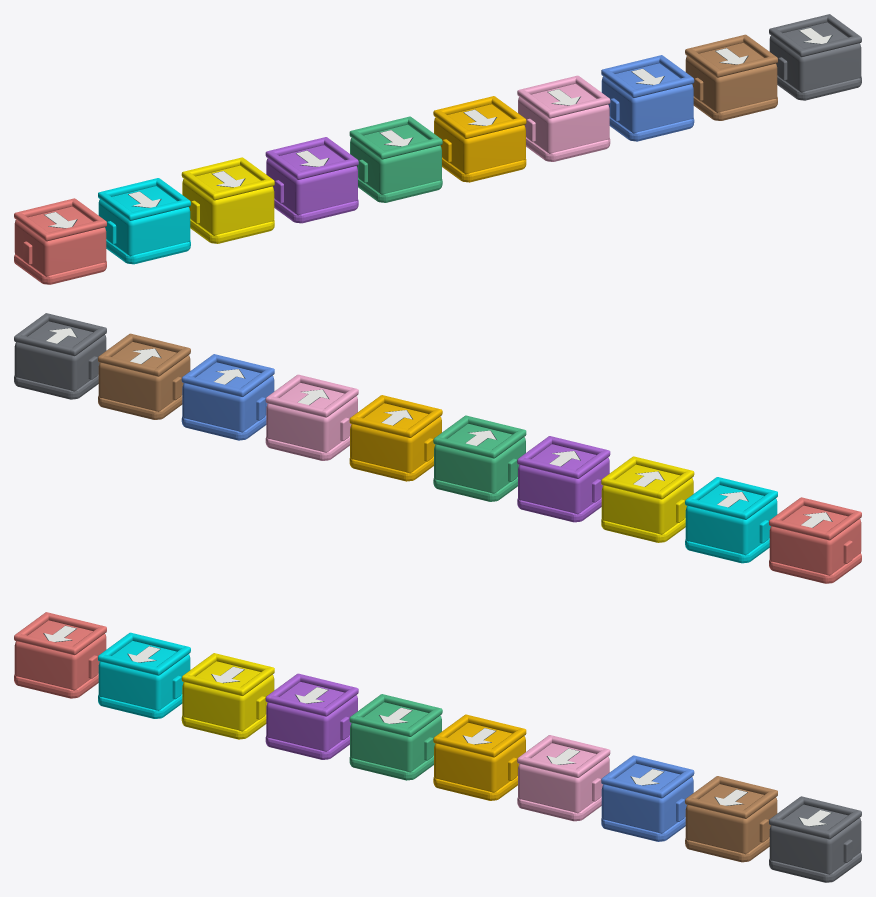
The model's file is ArrowVehicle_Small_10Colors.fbx.
3 views of the same model, one above another, from view 1: azimuth 30°, elevation 25°; view 2: azimuth 150°, elevation 25°; view 3: azimuth 330°, elevation 25° (orthographic).
Visible parts, largest first — view 1: Vehicle_Small_Red, Vehicle_Small_Blue, Vehicle_Small_Yellow, Vehicle_Small_Brown, Vehicle_Small_Cyan, Vehicle_Small_Charcoal, Vehicle_Small_Purple, Vehicle_Small_Green, Vehicle_Small_Pink, Vehicle_Small_Orange; view 2: Vehicle_Small_Red, Vehicle_Small_Blue, Vehicle_Small_Yellow, Vehicle_Small_Brown, Vehicle_Small_Charcoal, Vehicle_Small_Cyan, Vehicle_Small_Purple, Vehicle_Small_Green, Vehicle_Small_Pink, Vehicle_Small_Orange; view 3: Vehicle_Small_Charcoal, Vehicle_Small_Yellow, Vehicle_Small_Blue, Vehicle_Small_Cyan, Vehicle_Small_Brown, Vehicle_Small_Red, Vehicle_Small_Pink, Vehicle_Small_Orange, Vehicle_Small_Purple, Vehicle_Small_Green.
Boxes of the visible parts, bbox=[...] form: Vehicle_Small_Red: bbox=[14, 198, 106, 284]; Vehicle_Small_Blue: bbox=[601, 55, 694, 141]; Vehicle_Small_Yellow: bbox=[181, 157, 274, 243]; Vehicle_Small_Brown: bbox=[685, 34, 777, 120]; Vehicle_Small_Cyan: bbox=[98, 178, 190, 264]; Vehicle_Small_Charcoal: bbox=[769, 14, 861, 100]; Vehicle_Small_Purple: bbox=[265, 137, 358, 223]; Vehicle_Small_Green: bbox=[349, 116, 442, 202]; Vehicle_Small_Pink: bbox=[517, 75, 610, 161]; Vehicle_Small_Orange: bbox=[433, 96, 526, 182]; Vehicle_Small_Red: bbox=[769, 497, 861, 583]; Vehicle_Small_Blue: bbox=[181, 354, 274, 440]; Vehicle_Small_Yellow: bbox=[601, 456, 694, 542]; Vehicle_Small_Brown: bbox=[98, 333, 190, 419]; Vehicle_Small_Charcoal: bbox=[14, 313, 106, 399]; Vehicle_Small_Cyan: bbox=[685, 477, 777, 563]; Vehicle_Small_Purple: bbox=[517, 436, 610, 522]; Vehicle_Small_Green: bbox=[433, 415, 526, 501]; Vehicle_Small_Pink: bbox=[265, 374, 358, 460]; Vehicle_Small_Orange: bbox=[349, 395, 442, 481]; Vehicle_Small_Charcoal: bbox=[769, 796, 861, 882]; Vehicle_Small_Yellow: bbox=[181, 653, 274, 739]; Vehicle_Small_Blue: bbox=[601, 755, 694, 841]; Vehicle_Small_Cyan: bbox=[98, 632, 190, 718]; Vehicle_Small_Brown: bbox=[685, 776, 777, 862]; Vehicle_Small_Red: bbox=[14, 612, 106, 698]; Vehicle_Small_Pink: bbox=[517, 735, 610, 821]; Vehicle_Small_Orange: bbox=[433, 714, 526, 800]; Vehicle_Small_Purple: bbox=[265, 673, 358, 759]; Vehicle_Small_Green: bbox=[349, 694, 442, 780].
Bounding box in the file's own units: 24.56 × 1.42 × 1.79.
